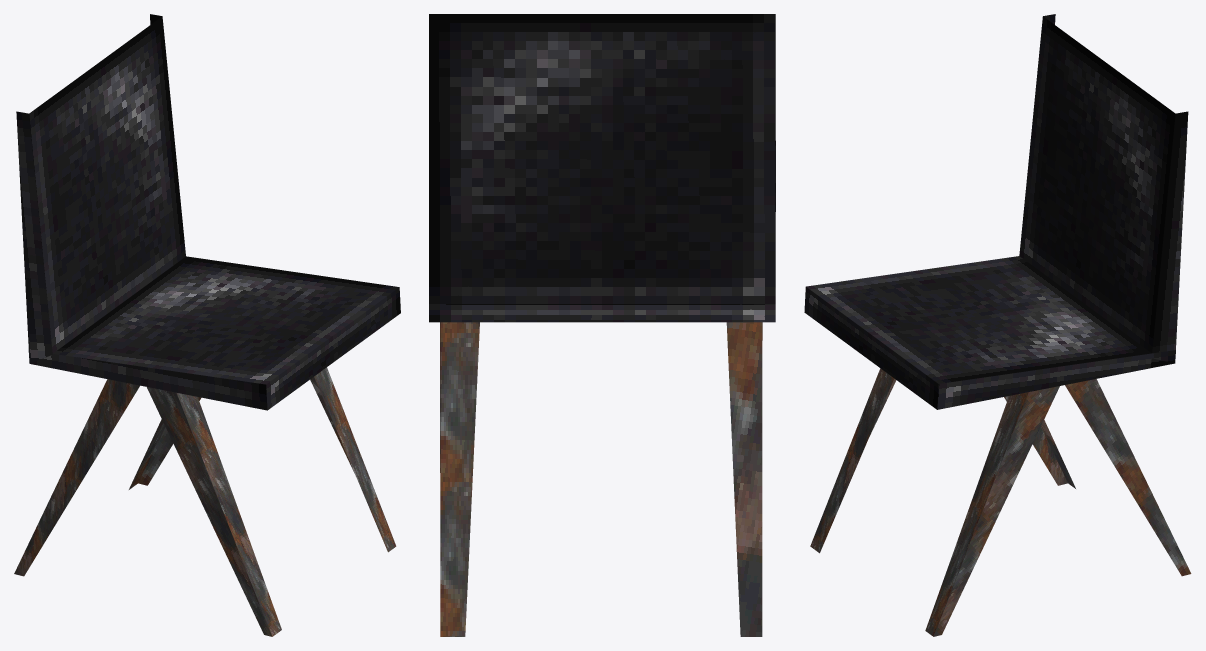
The model's file is primary_009.glb.
The picture shows the model from 3 angles, left to right: view 1: azimuth 30°, elevation 25°; view 2: azimuth 150°, elevation 25°; view 3: azimuth 270°, elevation 25°; orthographic projection. The views are drawn at different scales.
Visible parts, largest first — view 1: Object; view 2: Object; view 3: Object.
Part boxes in pixels (x1=…): Object: x1=14, y1=14, x2=400, y2=636; Object: x1=429, y1=14, x2=775, y2=636; Object: x1=804, y1=14, x2=1191, y2=636.
Bounding box in the file's own units: 0.839 × 1.16 × 0.8656.
Materials: 2 (2 with a texture image).
